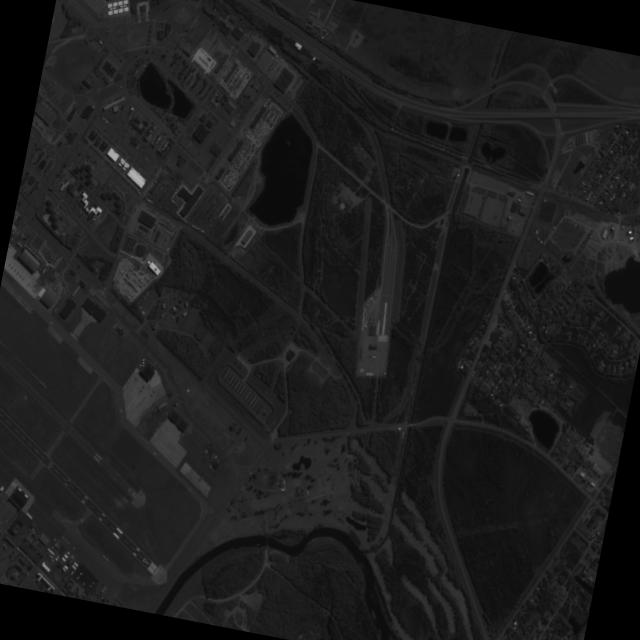plane: (53, 537, 58, 542), (76, 576, 80, 581), (82, 581, 86, 586), (89, 584, 93, 589), (102, 554, 106, 559), (79, 572, 83, 576), (61, 536, 65, 540), (72, 547, 76, 551), (105, 558, 109, 562), (92, 581, 95, 585), (67, 541, 70, 545), (64, 539, 67, 542)
storage-tank: (142, 361, 145, 364), (143, 359, 145, 361)
